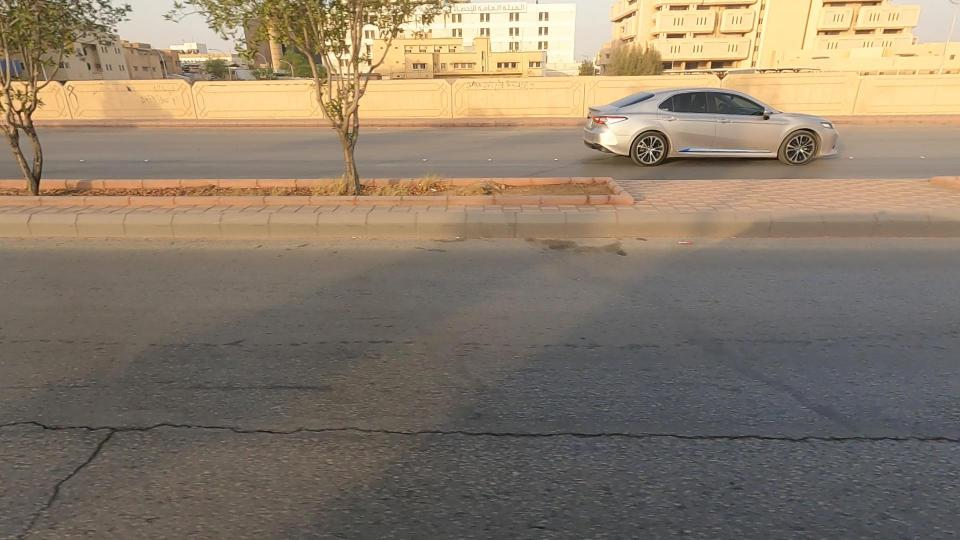GRAFFITI: (419, 59, 590, 114), (100, 62, 230, 128)
